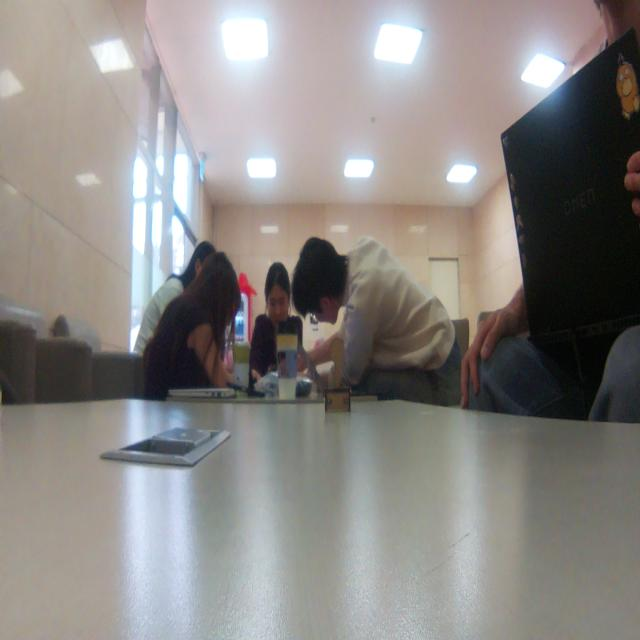target: (324, 335, 349, 414)
